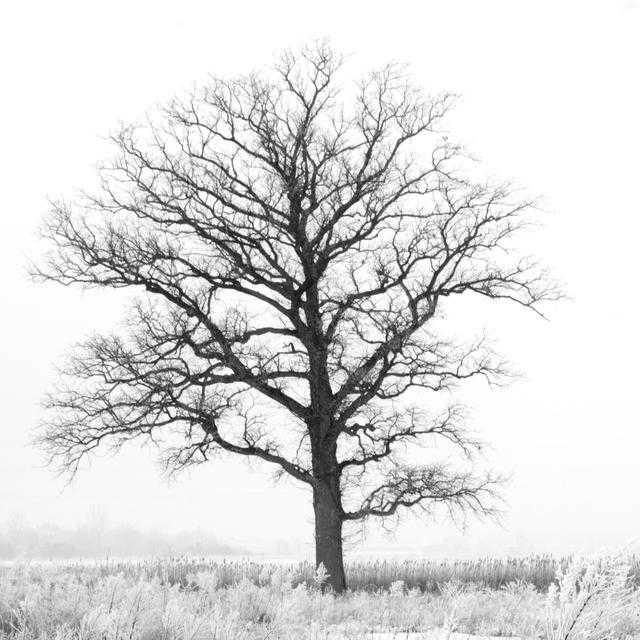Tree: (36, 46, 554, 592)
